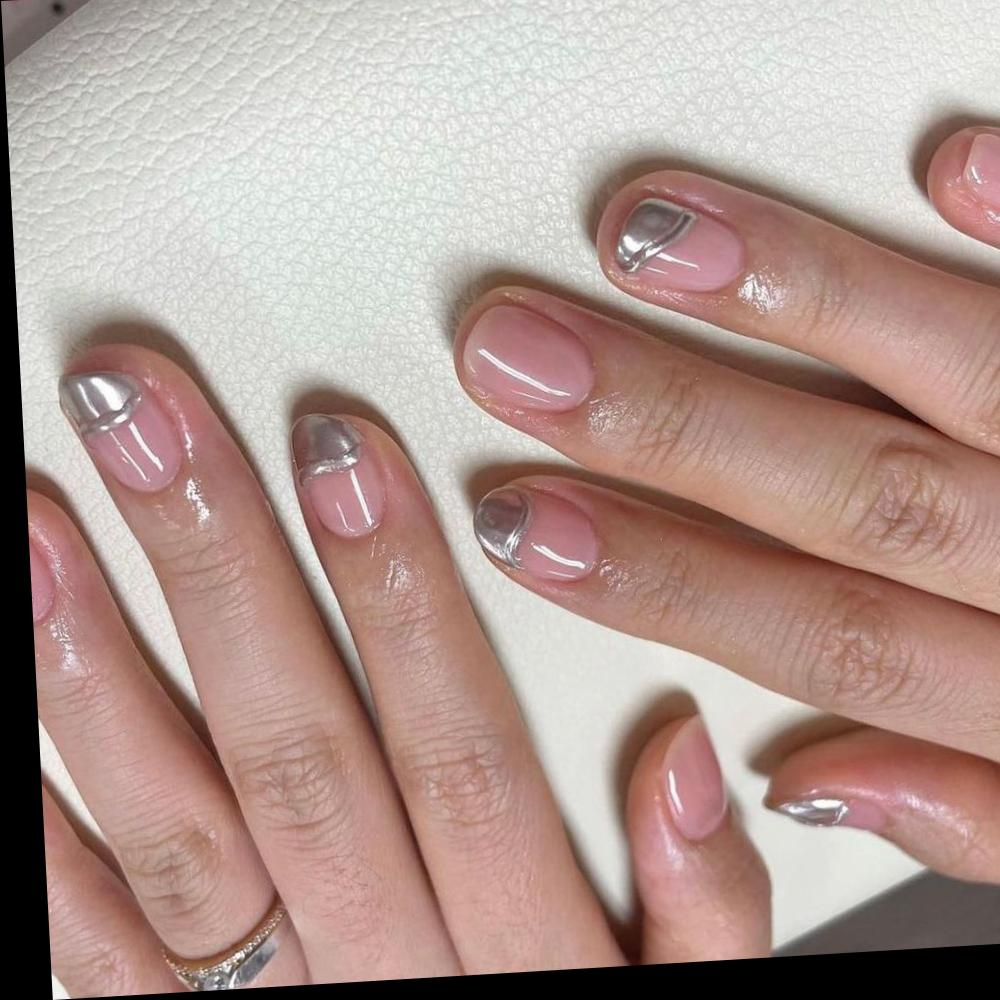nail: (56, 364, 186, 500), (457, 295, 598, 420), (608, 189, 747, 299), (471, 478, 603, 589), (288, 408, 388, 542), (658, 710, 731, 844), (27, 513, 58, 629), (962, 129, 1000, 223)
